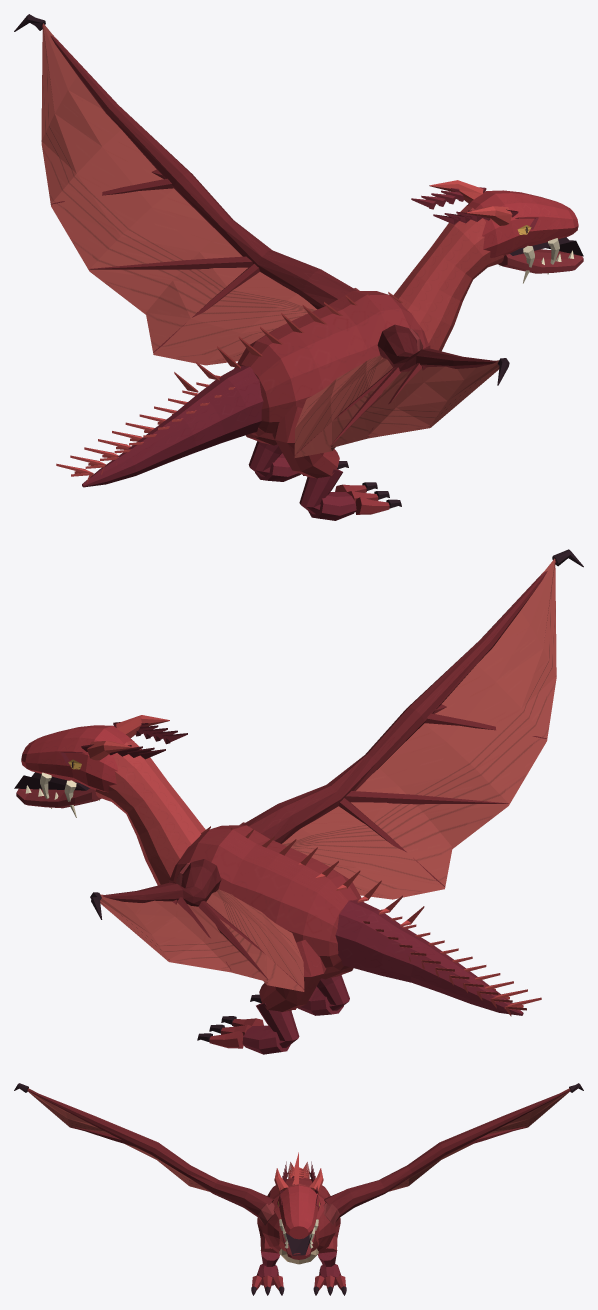
Rendered from wyvern_macho_selvagem_v01_blockout.glb.
3 renders of one model, top to bottom at view 1: azimuth 30°, elevation 25°; view 2: azimuth 150°, elevation 25°; view 3: azimuth 270°, elevation 25°, orthographic. The views are drawn at different scales.
Parts seen in each view (by area): view 1: world; view 2: world; view 3: world.
Boxes of the visible parts, box(x1,y1,x2,y2) form: world: box(14, 14, 583, 520); world: box(14, 549, 583, 1054); world: box(14, 1083, 583, 1295).
Size of the model in its own units: 8.21 by 4.86 by 13.31.
Materials: 1 (1 with a texture image).
